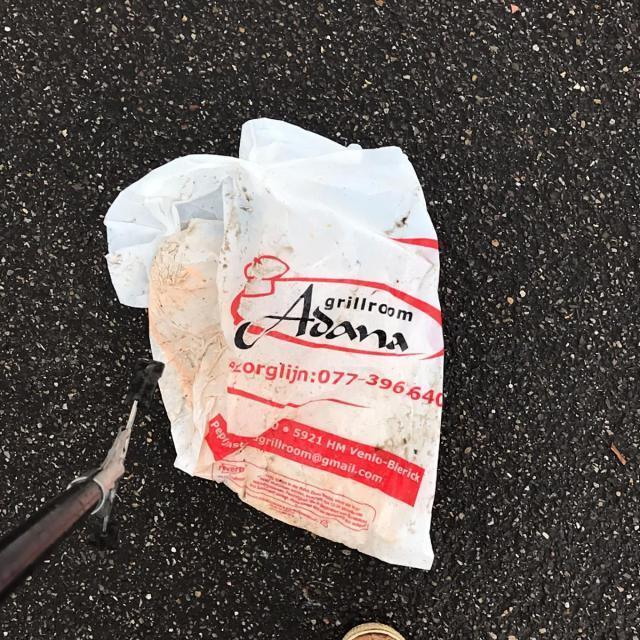Paper: (103, 116, 444, 573)
